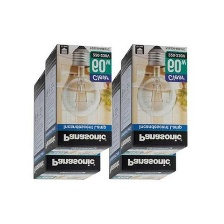carton: (115, 39, 190, 159), (28, 62, 102, 183), (106, 62, 180, 179), (40, 42, 113, 158)
